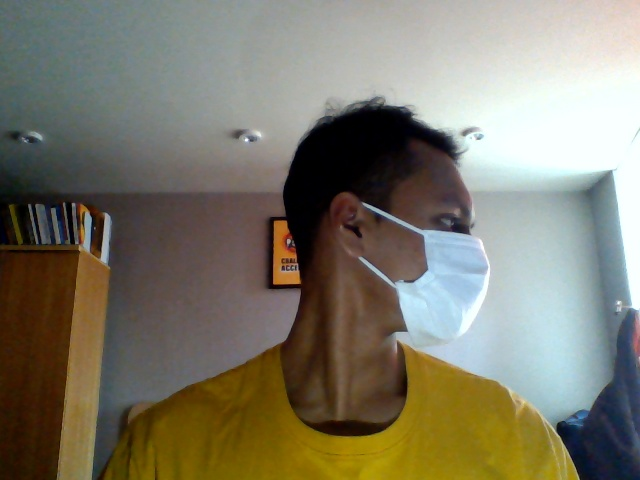mask: (403, 230, 490, 352)
